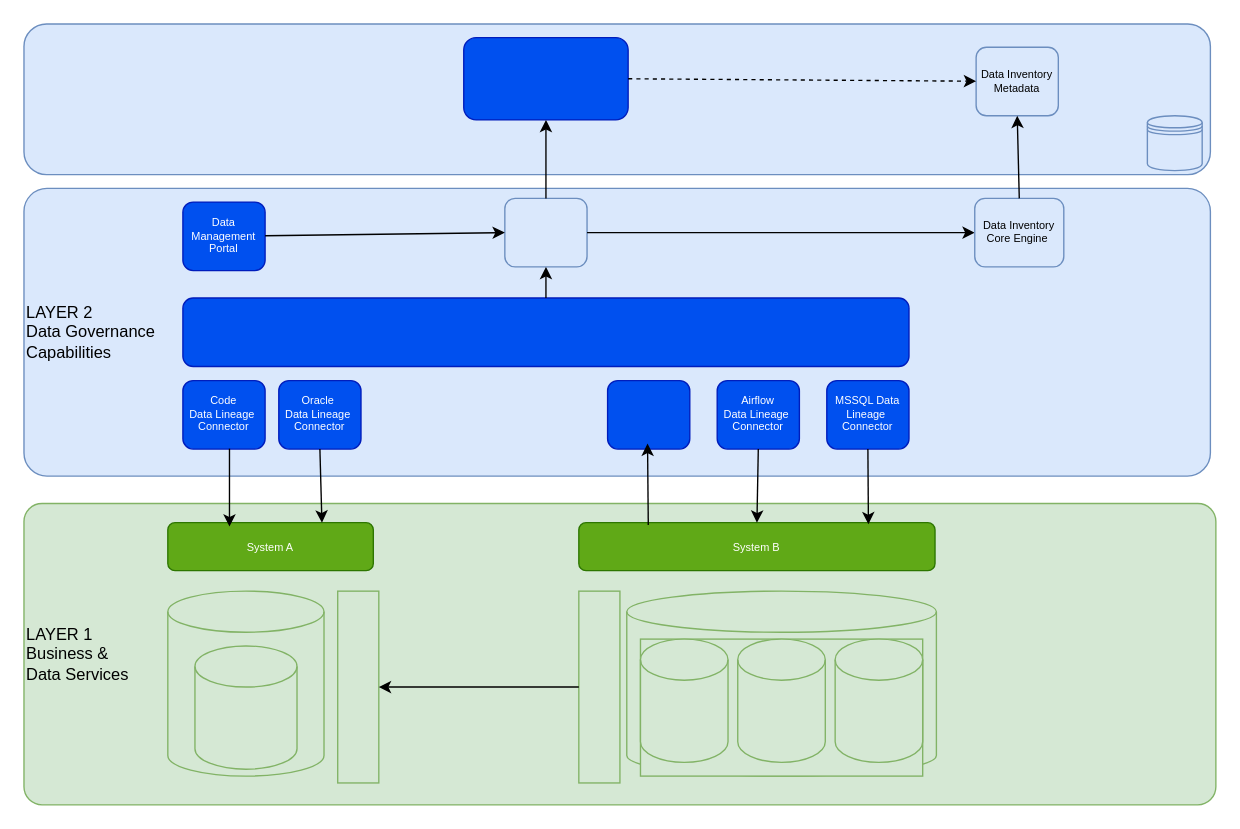
This 1240x829 diagram has some shape labels left out. Here are the shapes that lost their labels. From the top down, the box of each, then its label:
(462, 36, 628, 120): Data Lineage Metadata
(23, 23, 1210, 175): LAYER 3 Data Governance Metadata
(503, 197, 587, 267): Orchestration & Controls
(182, 297, 909, 366): Data Lineage Core Engine
(606, 379, 690, 449): API Data Lineage Connector
(336, 590, 379, 783): API
